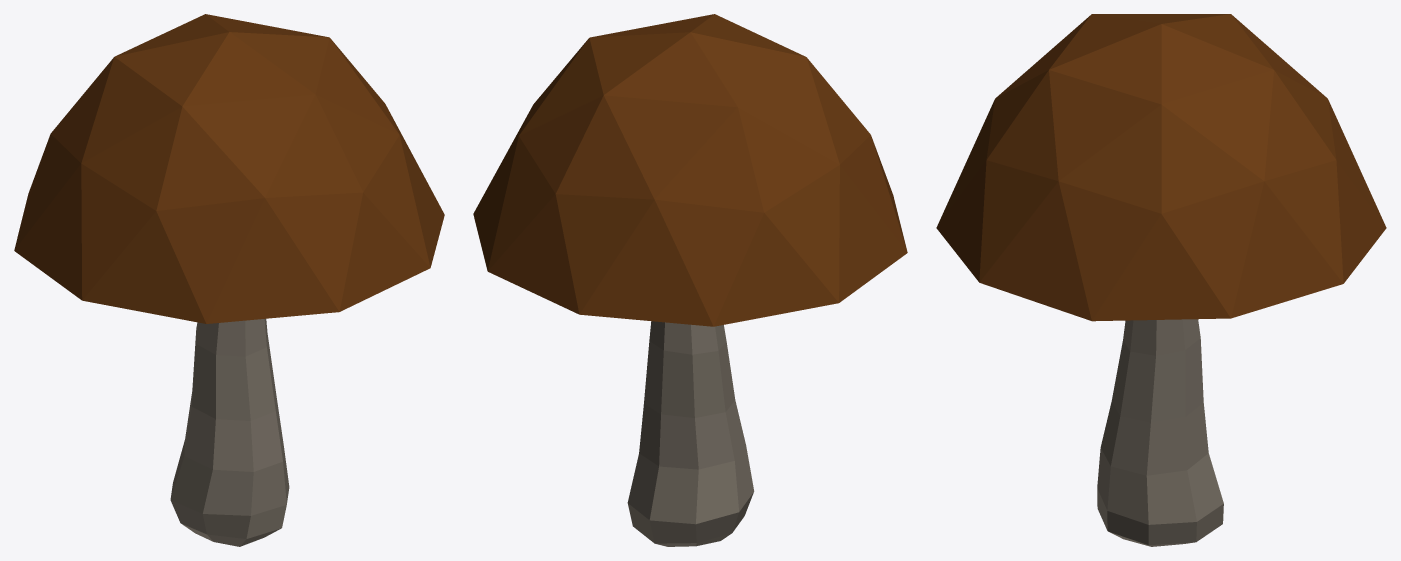
Rendered from mushroom-1.glb.
3 renders of one model, left to right at view 1: azimuth 30°, elevation 25°; view 2: azimuth 150°, elevation 25°; view 3: azimuth 270°, elevation 25°, orthographic. The views are drawn at different scales.
Visible parts, largest first — view 1: Mushroom 1; view 2: Mushroom 1; view 3: Mushroom 1.
Boxes of the visible parts, x1,y1,x2,y2 form: Mushroom 1: (14, 14, 444, 546); Mushroom 1: (473, 14, 907, 546); Mushroom 1: (936, 14, 1386, 546).
Size of the model in its own units: 1.24 by 1.62 by 1.3.
